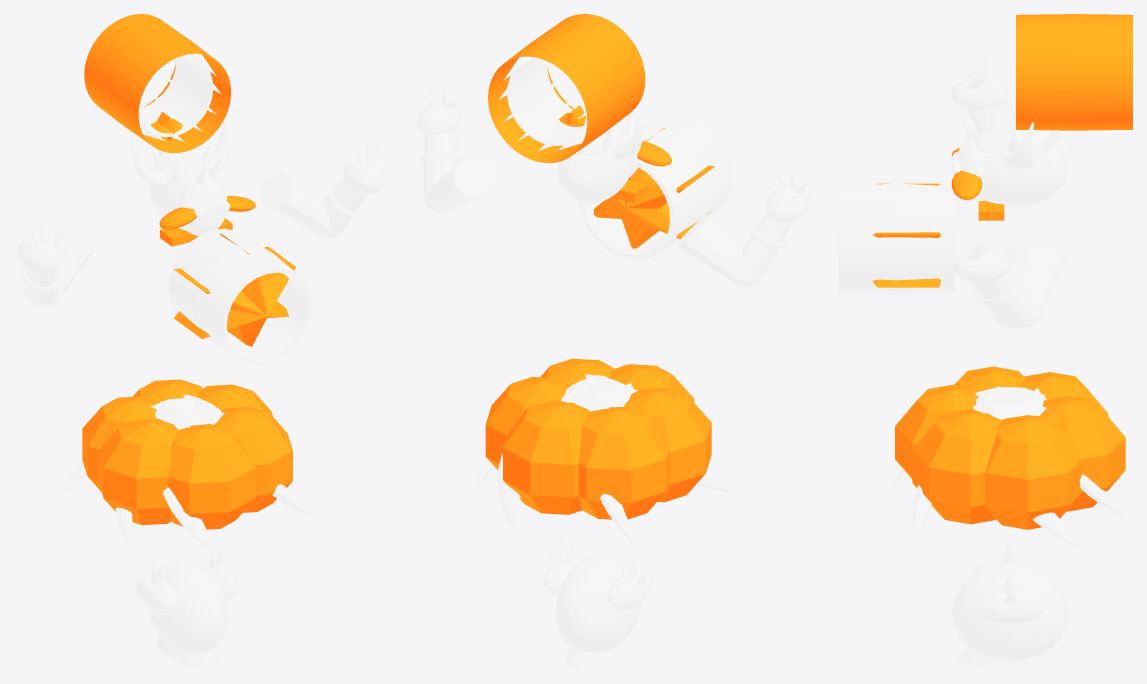
File: morghast-v5.glb
The picture shows the model from 3 angles, left to right: view 1: azimuth 30°, elevation 25°; view 2: azimuth 150°, elevation 25°; view 3: azimuth 270°, elevation 25°; orthographic projection. The views are drawn at different scales.
Visible parts, largest first — view 1: boss_coeur.004, lueur_boss_halo.001, boss_corps.003, lueur_boss_tentacule4.001, lueur_boss_tentacule3.001, boss_tete.004, boss_bras_d.003, lueur_boss_tentacule5.001, boss_bras_g.003, boss_halo.004, lueur_boss_coeur.001, lueur_boss_tentacule2.001 (+7 smaller); view 2: lueur_boss_halo.001, boss_corps.003, boss_coeur.004, lueur_boss_tentacule2.001, lueur_boss_tentacule1.001, boss_bras_g.003, boss_bras_d.003, lueur_boss_tentacule3.001, boss_tete.004, boss_halo.004, lueur_boss_coeur.001, lueur_boss_tentacule0.001 (+7 smaller); view 3: lueur_boss_halo.001, boss_coeur.004, boss_corps.003, lueur_boss_tentacule0.001, lueur_boss_tentacule5.001, boss_tete.004, boss_bras_d.003, lueur_boss_tentacule1.001, lueur_boss_tentacule4.001, boss_bras_g.003, boss_tentacule0.003, lueur_boss_tentacule2.001 (+6 smaller).
Boxes of the visible parts, x1,y1,x2,y2 form: boss_coeur.004: [168, 228, 312, 364]; lueur_boss_halo.001: [84, 14, 230, 153]; boss_corps.003: [136, 545, 238, 669]; lueur_boss_tentacule4.001: [168, 424, 255, 529]; lueur_boss_tentacule3.001: [98, 418, 178, 525]; boss_tete.004: [131, 118, 230, 235]; boss_bras_d.003: [259, 141, 384, 238]; lueur_boss_tentacule5.001: [214, 406, 292, 512]; boss_bras_g.003: [15, 220, 93, 307]; boss_halo.004: [138, 53, 220, 141]; lueur_boss_coeur.001: [174, 233, 295, 346]; lueur_boss_tentacule2.001: [82, 396, 159, 491]; lueur_boss_halo.001: [488, 14, 645, 163]; boss_corps.003: [543, 536, 653, 669]; boss_coeur.004: [579, 114, 732, 259]; lueur_boss_tentacule2.001: [578, 406, 668, 519]; lueur_boss_tentacule1.001: [503, 401, 589, 514]; boss_bras_g.003: [676, 172, 809, 286]; boss_bras_d.003: [414, 87, 498, 212]; lueur_boss_tentacule3.001: [624, 388, 711, 502]; boss_tete.004: [557, 109, 643, 203]; boss_halo.004: [498, 56, 587, 150]; lueur_boss_coeur.001: [593, 127, 714, 248]; lueur_boss_tentacule0.001: [485, 376, 571, 469]; lueur_boss_halo.001: [1016, 14, 1132, 130]; boss_coeur.004: [838, 178, 954, 294]; boss_corps.003: [952, 536, 1068, 669]; lueur_boss_tentacule0.001: [985, 415, 1081, 529]; lueur_boss_tentacule5.001: [912, 409, 1001, 524]; boss_tete.004: [952, 104, 1067, 207]; boss_bras_d.003: [952, 226, 1068, 328]; lueur_boss_tentacule1.001: [1039, 396, 1125, 511]; lueur_boss_tentacule4.001: [895, 384, 978, 479]; boss_bras_g.003: [952, 55, 1068, 155]; boss_tentacule0.003: [973, 403, 1085, 548]; lueur_boss_tentacule2.001: [1019, 372, 1108, 416].
Bounding box in the file's own units: 7.8 × 12.1 × 5.05.
